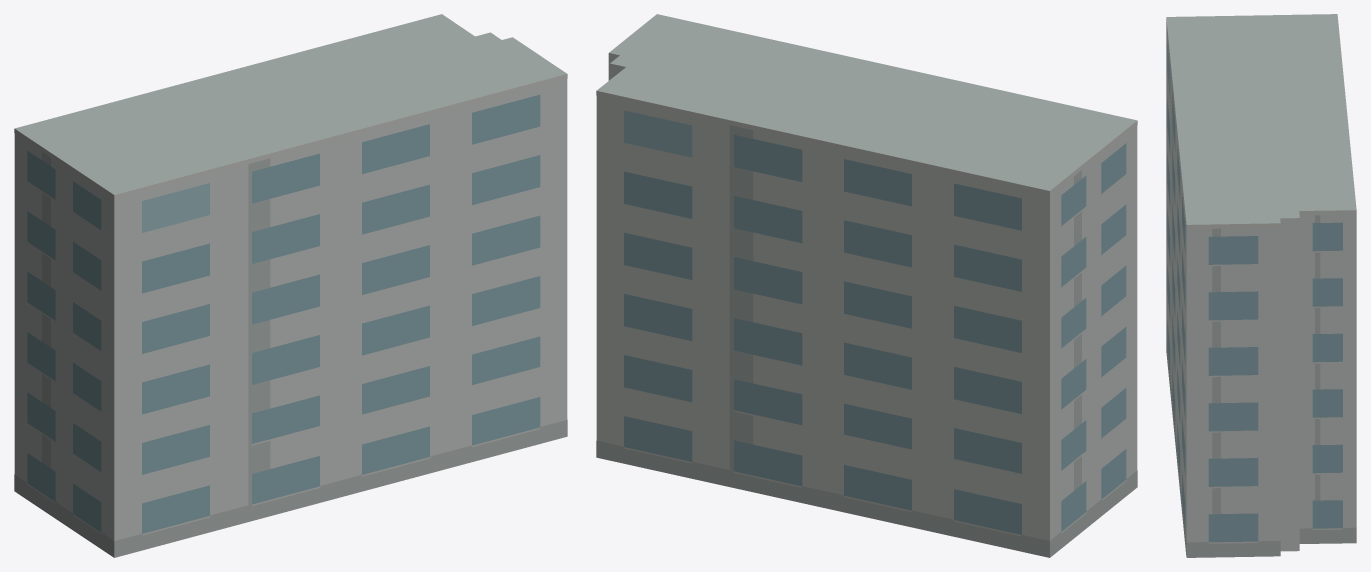
Rendered from survey-upis-32629988.glb.
3 views of the same model, side by side, from view 1: azimuth 30°, elevation 25°; view 2: azimuth 150°, elevation 25°; view 3: azimuth 270°, elevation 25° (orthographic). The views are drawn at different scales.
Visible parts, largest first — view 1: survey-upis-32629988.tmp; view 2: survey-upis-32629988.tmp; view 3: survey-upis-32629988.tmp.
Boxes of the visible parts, <box> form: survey-upis-32629988.tmp: <box>14,14,567,557</box>; survey-upis-32629988.tmp: <box>596,14,1137,557</box>; survey-upis-32629988.tmp: <box>1166,14,1356,557</box>.
Size of the model in its own units: 24.86 by 18.3 by 9.49.
